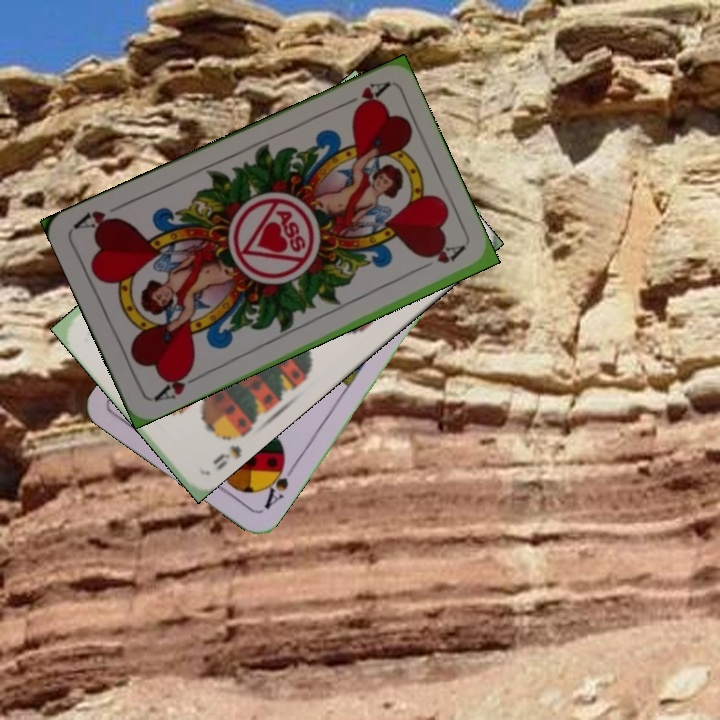HA: (150, 364, 204, 404), (334, 78, 390, 115)
S9: (208, 441, 244, 473)
SA: (258, 455, 298, 512)
